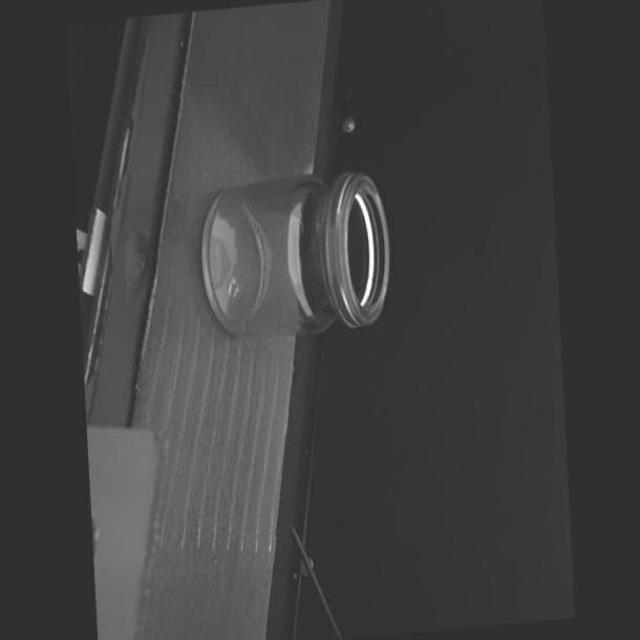defect: (297, 213, 304, 232), (291, 211, 298, 217)
glass: (191, 165, 399, 350)
